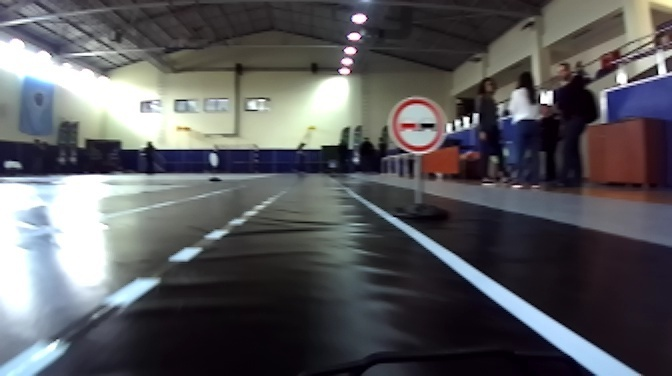sollama_yasak: (388, 96, 444, 154)
